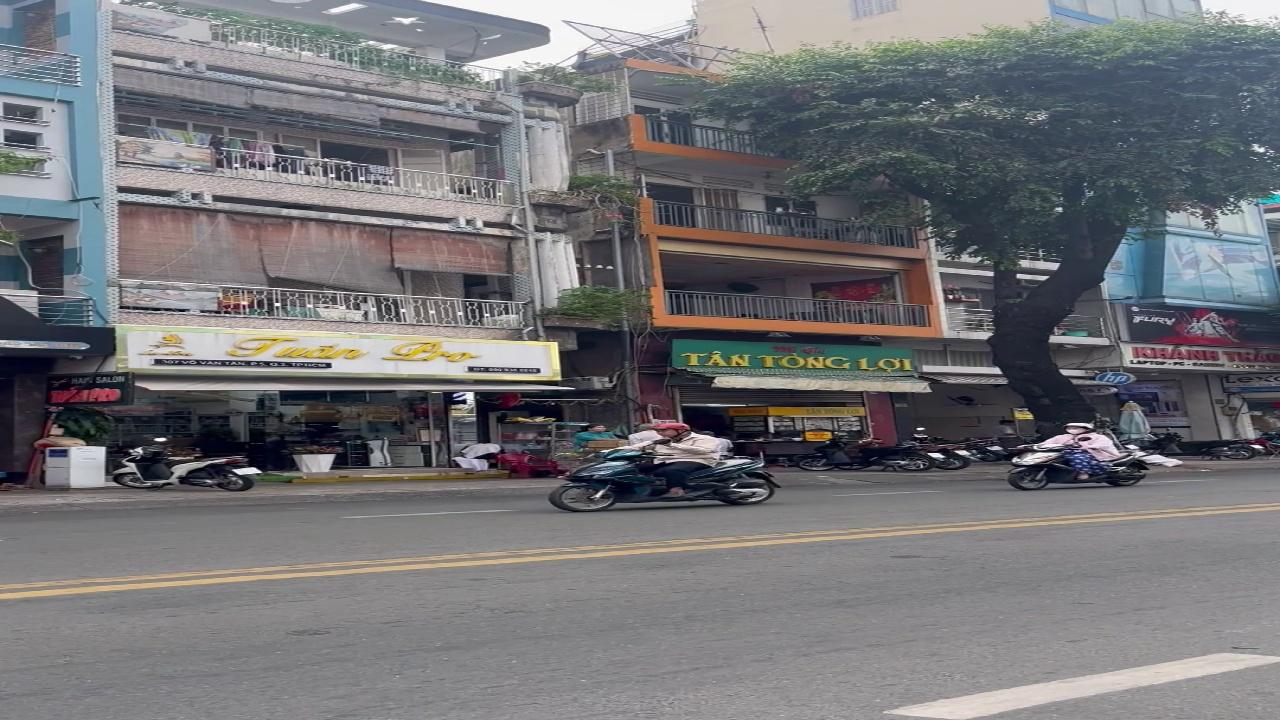Helmet: (653, 422, 693, 443), (1065, 420, 1094, 437)
Motor: (548, 448, 778, 511), (111, 445, 260, 490), (1007, 443, 1147, 490), (795, 438, 935, 470), (1139, 432, 1262, 459), (912, 428, 971, 469), (962, 438, 1018, 462), (1244, 431, 1279, 455)
